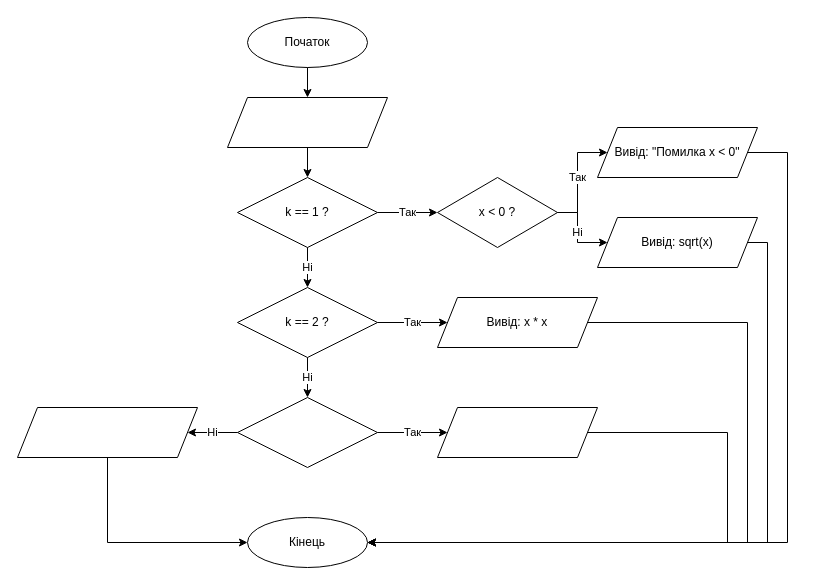
Image size: 813x585. Some labels were removed from this diagram. Each missing label, with the centre of its shape:
k == 3 ?: point (307, 432)
Введення x, k: point (307, 122)
Вивід: "Невідомий код": point (107, 432)
Вивід: exp(x): point (517, 432)
